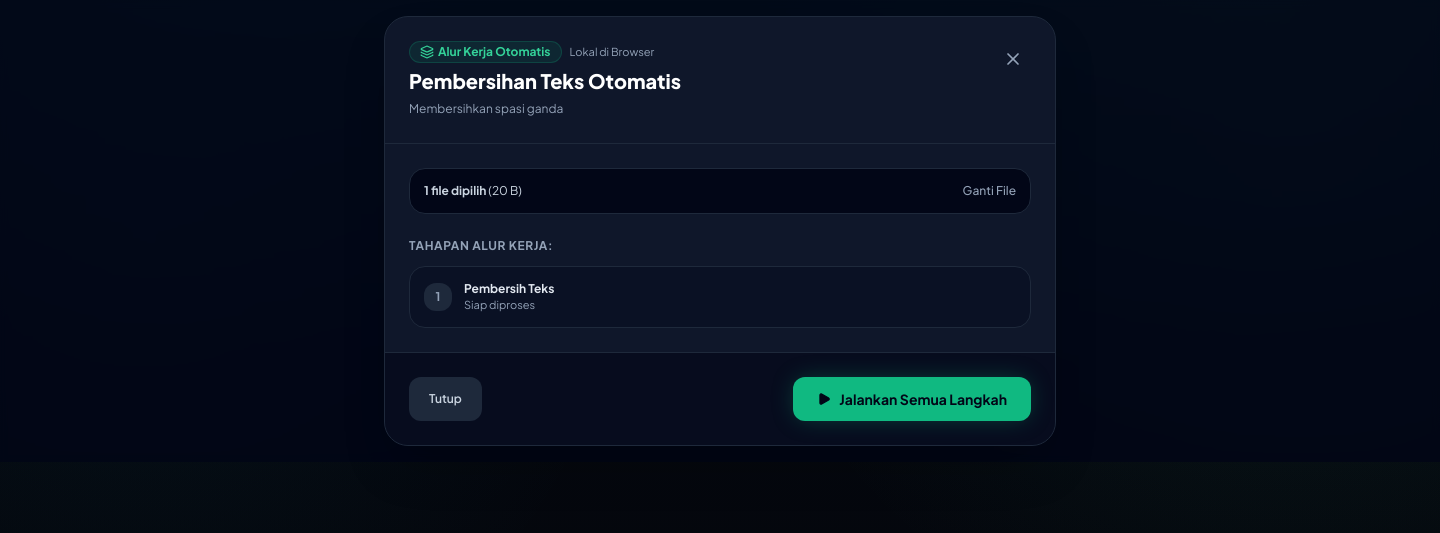
End-to-End UI & Functional User Journeys (Task 6) › 5. Workflow Runner Modal Flow › executes multi-step workflow cleanly and offers itemized and ZIP downloads
Check: the heading "Pembersihan Teks Otomatis" is shown, box [409,67,681,95]
Click the button "Jalankan Semua Langkah" at (912, 399), box [793,377,1031,421]
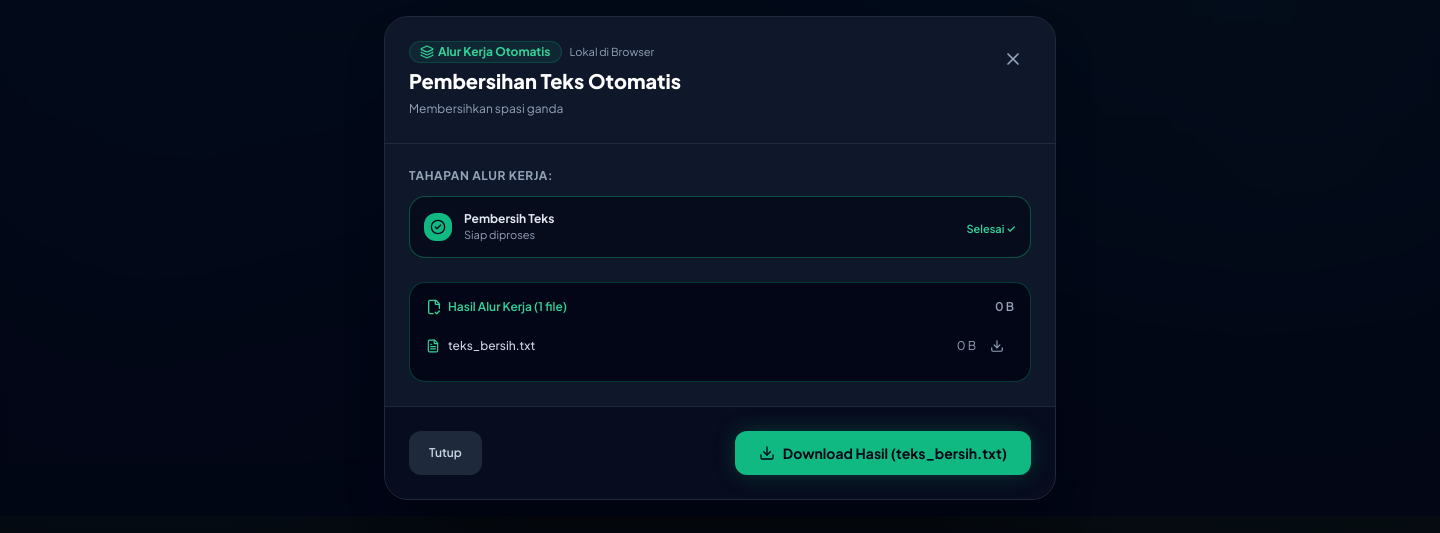
Check: the button "Download Hasil (teks_bersih.txt)" is shown, box [735,431,1031,475]
